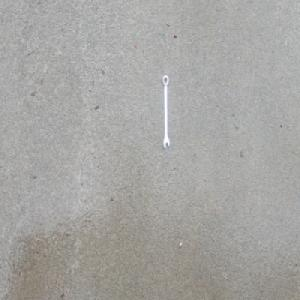Wrench: (162, 74, 170, 149)
